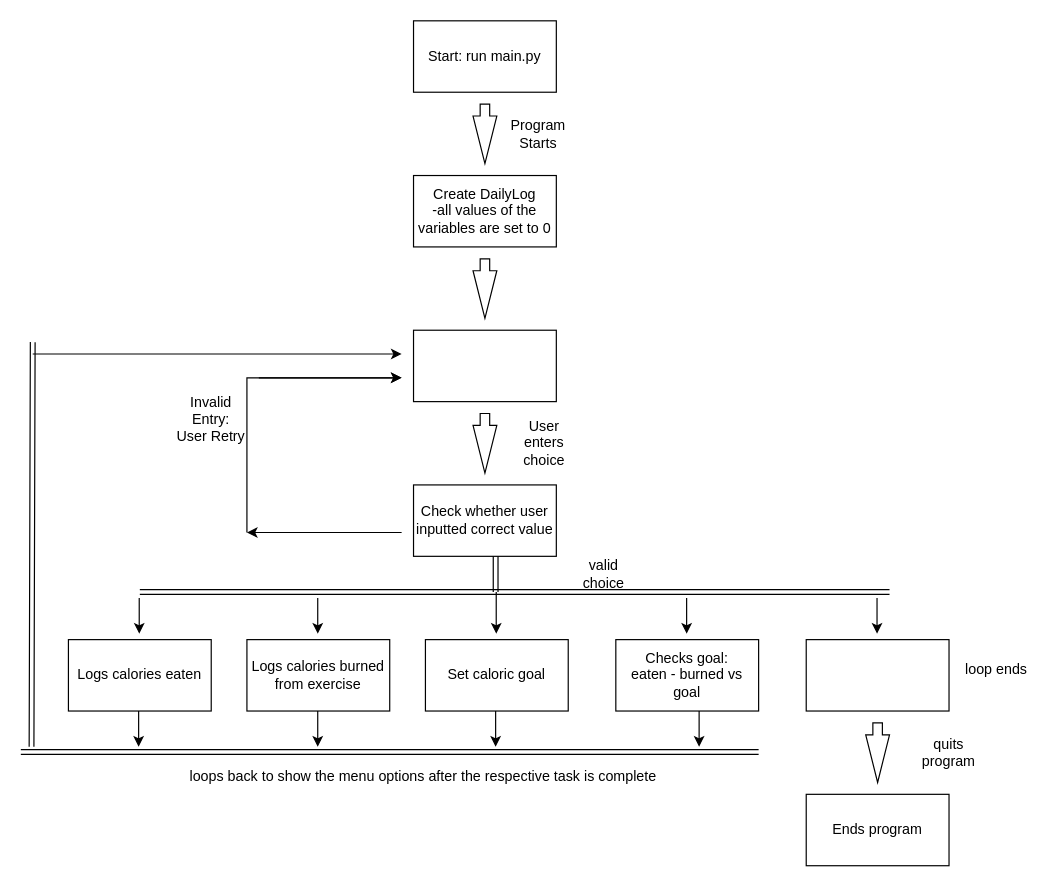
This 1053x887 diagram has some shape labels left out. The centre of each missing label's shape, as x and y in pixels:
Display menu with a list of options for the user to choose: [484,365]
Quit: [877,674]
